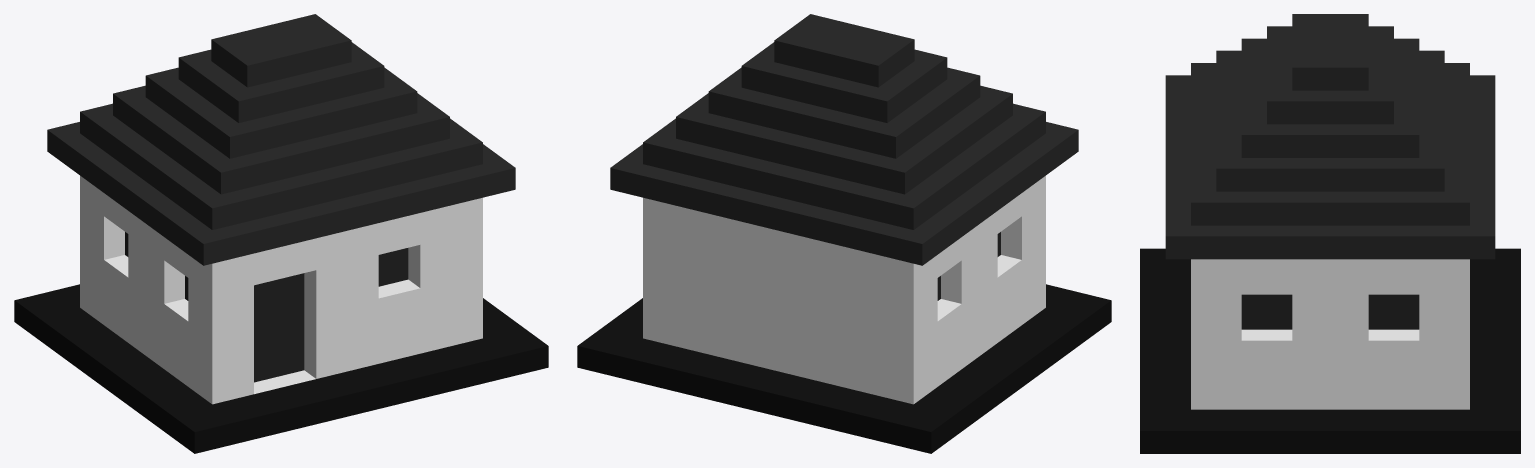
Rendered from building5.obj.
3 views of the same model, side by side, from view 1: azimuth 30°, elevation 25°; view 2: azimuth 150°, elevation 25°; view 3: azimuth 270°, elevation 25° (orthographic). The views are drawn at different scales.
Bounding box in the file's own units: 17 × 14 × 15.
1 material, 1 textured.
